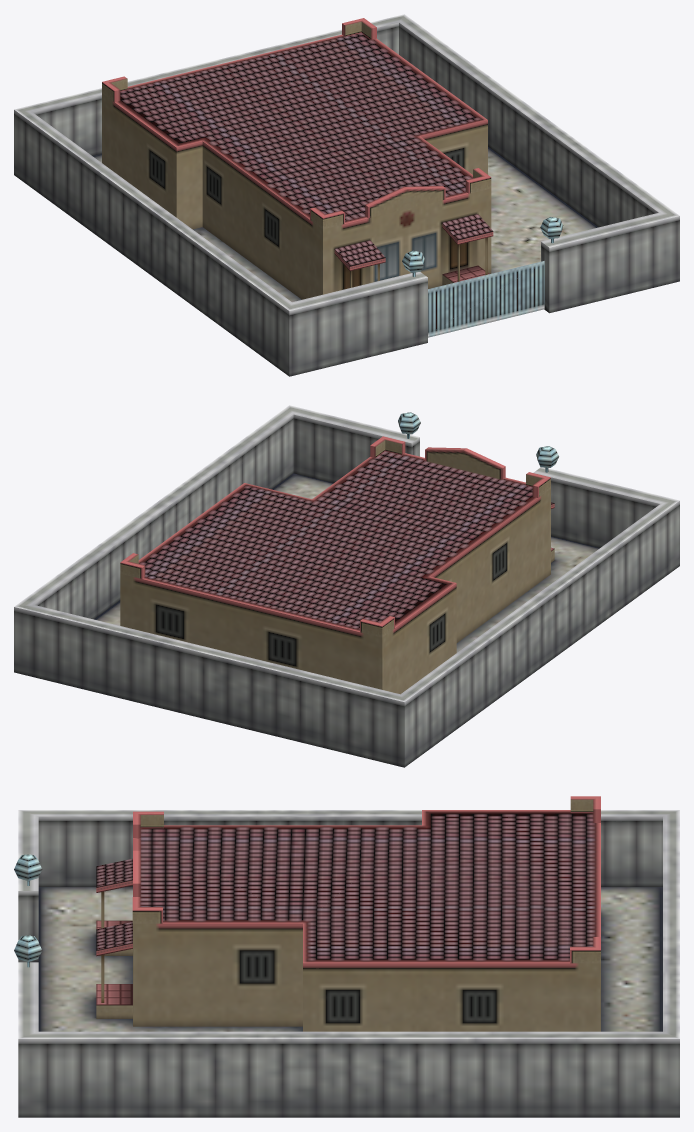
Rendered from GenericHouse01.fbx.
3 views of the same model, one above another, from view 1: azimuth 30°, elevation 25°; view 2: azimuth 150°, elevation 25°; view 3: azimuth 270°, elevation 25° (orthographic). The views are drawn at different scales.
Visible parts, largest first — view 1: GenericHouse01A1; view 2: GenericHouse01A1; view 3: GenericHouse01A1.
Boxes of the visible parts, x1,y1,x2,y2 form: GenericHouse01A1: (14, 14, 679, 376); GenericHouse01A1: (14, 405, 679, 767); GenericHouse01A1: (14, 796, 679, 1117).
Bounding box in the file's own units: 6.26 × 1.72 × 7.7.
